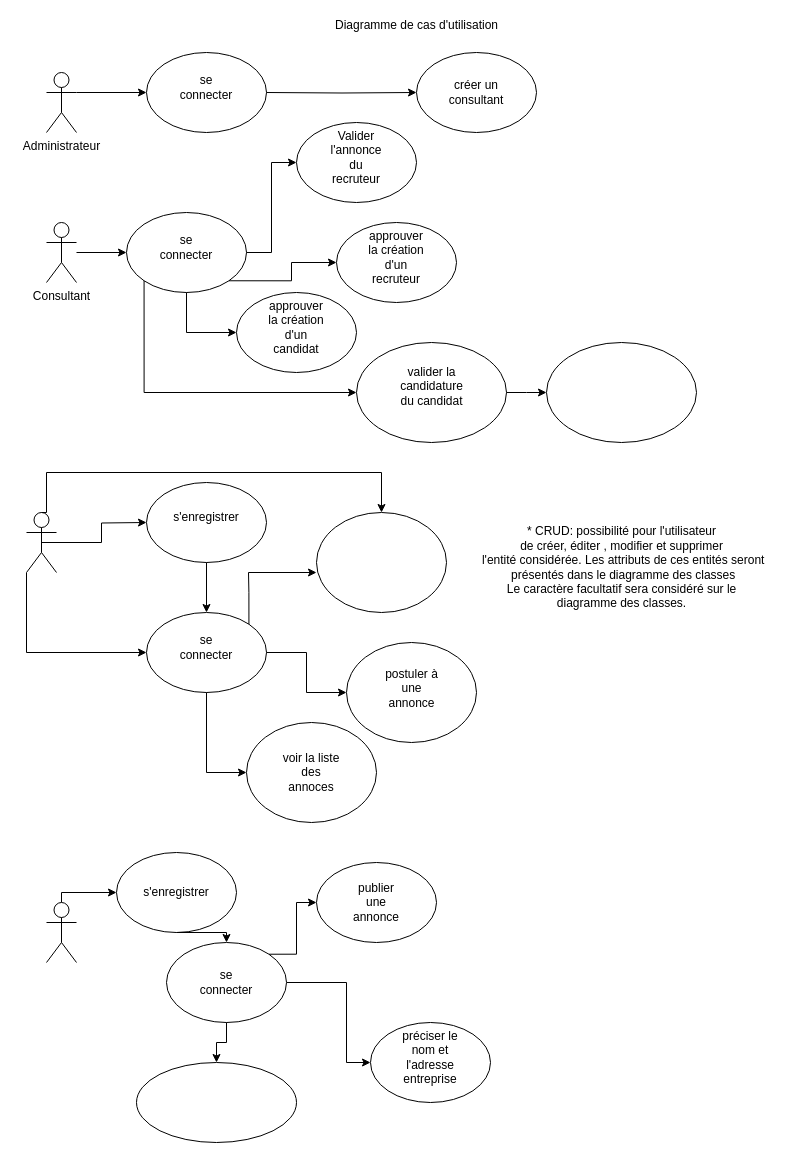
The diagram is 789 pixels wide and 1160 high, and some of its shapes have lost their labels. Each missing label, with the centre of its shape:
"Candidat" goes at (41,542).
"compléter son profil" goes at (381,562).
"Recruteur" goes at (61,932).
"voir la liste des candidats validé pour son annonce" goes at (216,1102).
"écrire un mail au recruteur" goes at (621,392).
